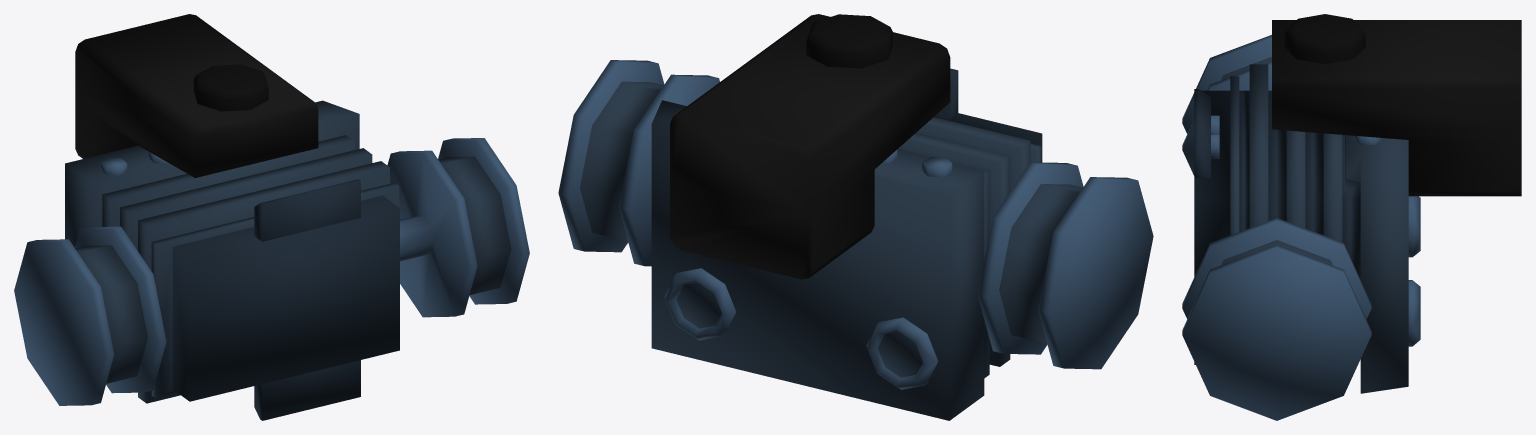
Rendered from Engine4.fbx.
3 views of the same model, side by side, from view 1: azimuth 30°, elevation 25°; view 2: azimuth 150°, elevation 25°; view 3: azimuth 270°, elevation 25° (orthographic). The views are drawn at different scales.
Visible parts, largest first — view 1: Engine4; view 2: Engine4; view 3: Engine4.
Part boxes in pixels (<box>): Engine4: <box>14,14,529,420</box>; Engine4: <box>558,14,1153,420</box>; Engine4: <box>1182,14,1521,420</box>.
Size of the model in its own units: 0.7879 by 0.5134 by 0.5218.
